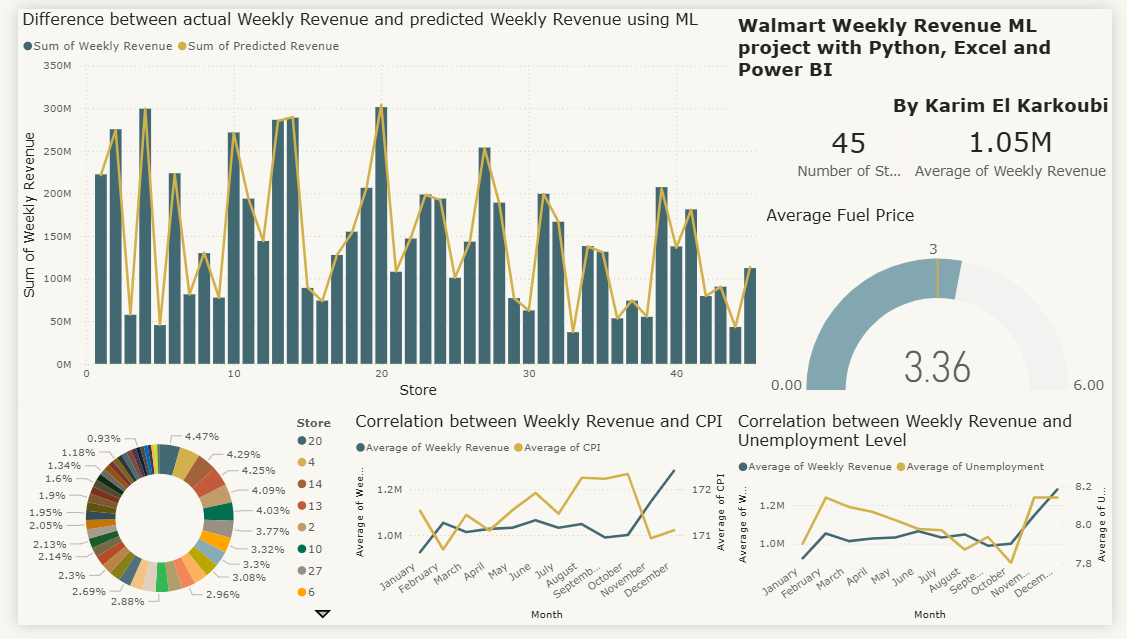

The page's visual inventory and layout, read from the dashboard file:
{"tool":"powerbi","page":{"name":"Page 1","canvas":[1280,720],"ordinal":0},"visuals":[{"type":"lineStackedColumnComboChart","title":"Difference between actual Weekly Revenue and predicted Weekly Revenue using ML","fields":{"Category":["Walmart_ML_Results.Store"],"Y":["Sum(Walmart_ML_Results.Weekly_Revenue)"],"Y2":["Sum(Walmart_ML_Results.Predicted_Revenue)"]},"box":[0,0,870,460],"z":0},{"type":"card","fields":{"Values":["Count(Walmart_ML_Results.Store)"]},"box":[904,108,136,114],"z":1000},{"type":"card","fields":{"Values":["Avg(Walmart_ML_Results.Weekly_Revenue)"]},"box":[1040,100,240,130],"z":2000},{"type":"donutChart","fields":{"Y":["Sum(Walmart_ML_Results.Weekly_Revenue)"],"Category":["Walmart_ML_Results.Store"]},"box":[0,470,390,250],"z":3000},{"type":"lineChart","title":"Correlation between Weekly Revenue and CPI","fields":{"Y":["Avg(Walmart_ML_Results.Weekly_Revenue)"],"Y2":["Avg(Walmart_ML_Results.CPI)"],"Category":["Walmart_ML_Results.Date.Variation.Date Hierarchy.Month"]},"box":[390,470,446,250],"z":4000},{"type":"lineChart","title":"Correlation between Weekly Revenue and Unemployment Level","fields":{"Y":["Avg(Walmart_ML_Results.Weekly_Revenue)"],"Category":["Walmart_ML_Results.Date.Variation.Date Hierarchy.Month"],"Y2":["Avg(Walmart_ML_Results.Unemployment)"]},"box":[836,470,444,250],"z":5000},{"type":"gauge","fields":{"Y":["Avg(Walmart_ML_Results.Fuel_Price)"]},"box":[870,230,410,230],"z":6000},{"type":"textbox","box":[836,0,444,134],"z":6001}]}

Visuals, with their boxes in screenshot pixels (x1, y1, x2, y2), scaled from the page's 1280x720 canvas onto the 1127x639 screenshot:
"Difference between actual Weekly Revenue and predicted Weekly Revenue using ML" lineStackedColumnComboChart: 0/0/766/408
card - Count(Walmart_ML_Results.Store): 796/96/916/197
card - Avg(Walmart_ML_Results.Weekly_Revenue): 916/89/1126/204
donutChart - Sum(Walmart_ML_Results.Weekly_Revenue) x Walmart_ML_Results.Store: 0/417/343/638
"Correlation between Weekly Revenue and CPI" lineChart: 343/417/736/638
"Correlation between Weekly Revenue and Unemployment Level" lineChart: 736/417/1126/638
gauge - Avg(Walmart_ML_Results.Fuel_Price): 766/204/1126/408
textbox: 736/0/1126/119
